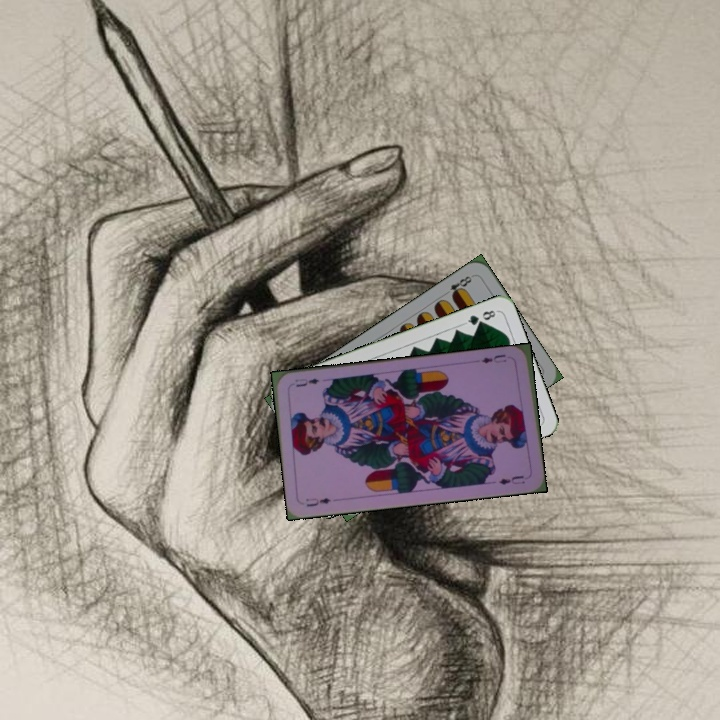E8: (440, 271, 476, 300)
EU: (477, 350, 509, 366), (302, 494, 333, 509)
G8: (461, 306, 500, 328)
